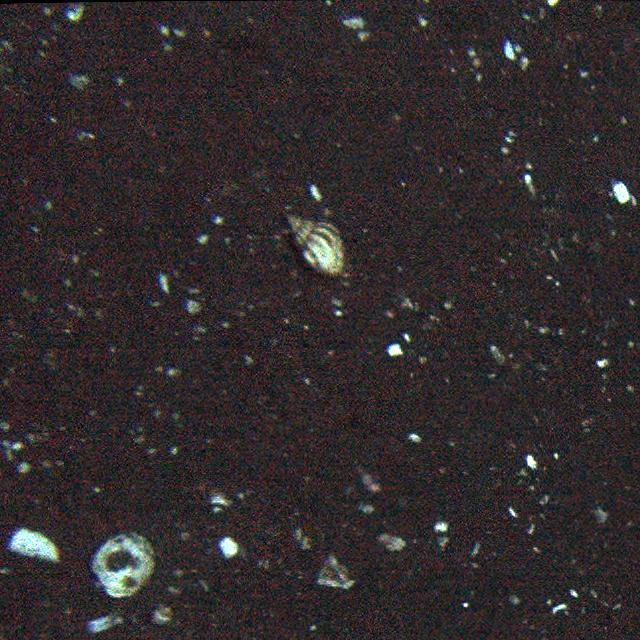whelk: (284, 211, 352, 281)
